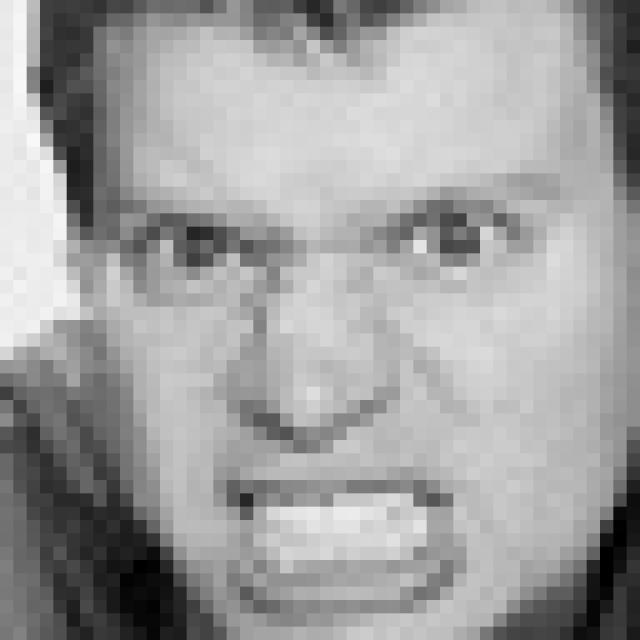angry: (111, 155, 574, 622)
